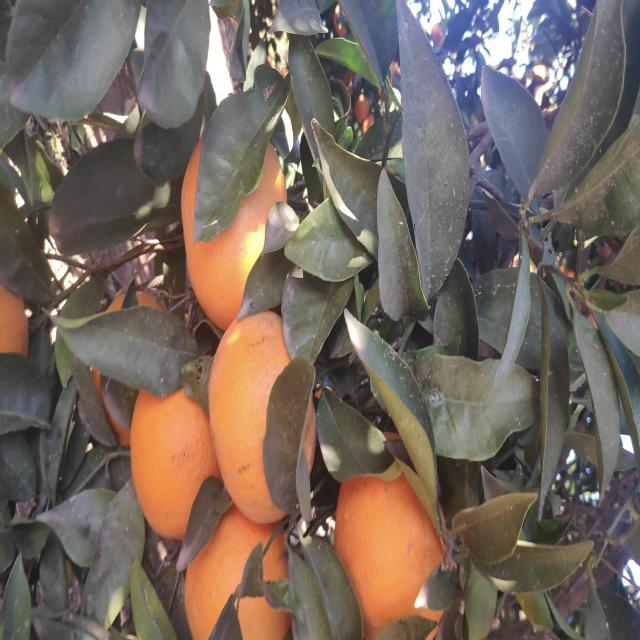Jeruk Sudah Matang: (310, 324, 524, 431), (138, 352, 334, 461), (473, 193, 640, 307), (380, 418, 542, 511), (503, 348, 640, 456), (292, 612, 358, 640)
